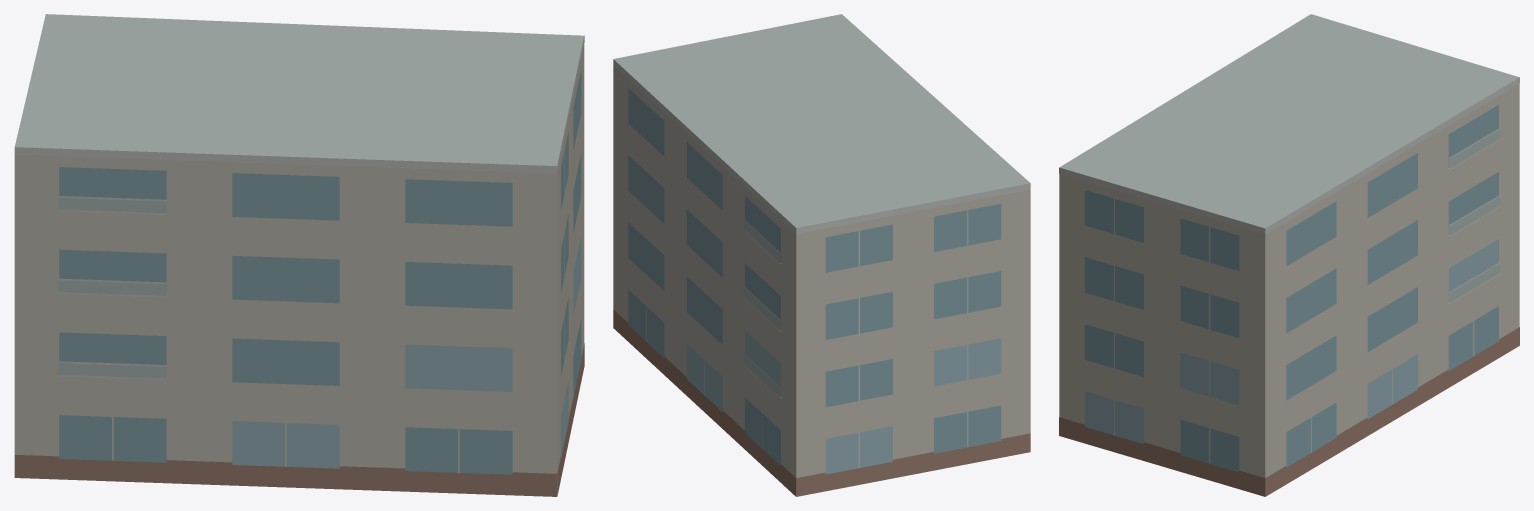
Rendered from survey-upis-33000781.glb.
3 views of the same model, side by side, from view 1: azimuth 30°, elevation 25°; view 2: azimuth 150°, elevation 25°; view 3: azimuth 270°, elevation 25° (orthographic). The views are drawn at different scales.
Parts seen in each view (by area): view 1: survey-upis-33000781.tmp; view 2: survey-upis-33000781.tmp; view 3: survey-upis-33000781.tmp.
Part boxes in pixels (x1,y1,x2,y2): survey-upis-33000781.tmp: (14,14,584,496); survey-upis-33000781.tmp: (613,14,1030,496); survey-upis-33000781.tmp: (1059,14,1519,496).
Bounding box in the file's own units: 18.52 × 10.8 × 16.8.
